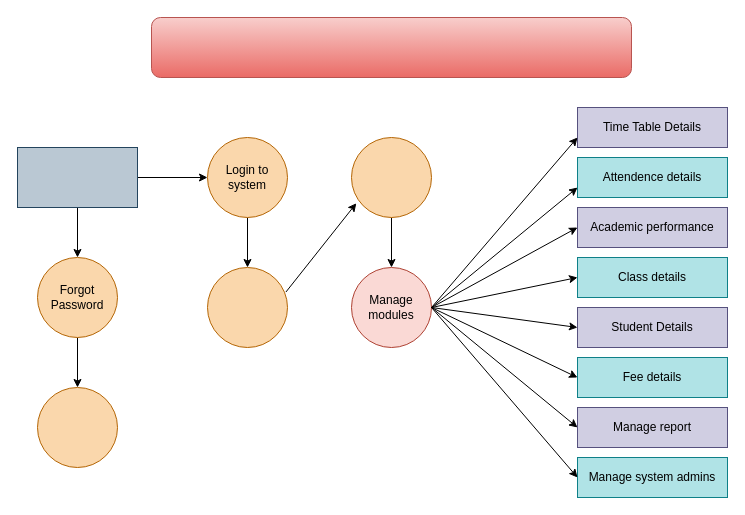
The diagram is 745 pixels wide and 515 high, and some of its shapes have lost their labels. The shapes that lost their labels are listed below. From the top down, each one's box as (x1, y1, x2, y2) in pixels, then its label:
(150, 16, 632, 78): Student Information System
(16, 146, 138, 208): Admin
(350, 136, 432, 218): Check roles of access
(206, 266, 288, 348): Check credentials
(36, 386, 118, 468): Send Email to user
